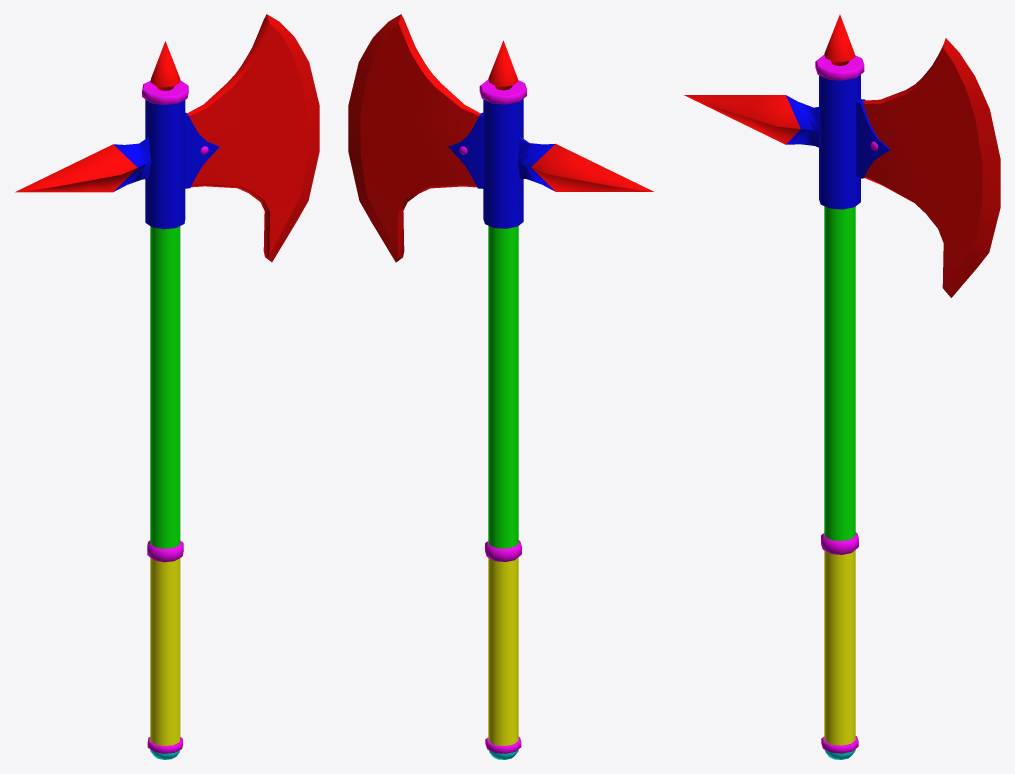
Rendered from MSH_Hacha2_MID_Isaac.FBX.
3 renders of one model, left to right at view 1: azimuth 30°, elevation 25°; view 2: azimuth 150°, elevation 25°; view 3: azimuth 330°, elevation 25°, orthographic. The views are drawn at different scales.
Parts seen in each view (by area): view 1: Hacha_2; view 2: Hacha_2; view 3: Hacha_2.
Boxes of the visible parts, x1=… form: Hacha_2: x1=15, y1=14, x2=319, y2=759; Hacha_2: x1=348, y1=14, x2=653, y2=759; Hacha_2: x1=684, y1=14, x2=1000, y2=759.
Bounding box in the file's own units: 54.86 × 123 × 7.45.
